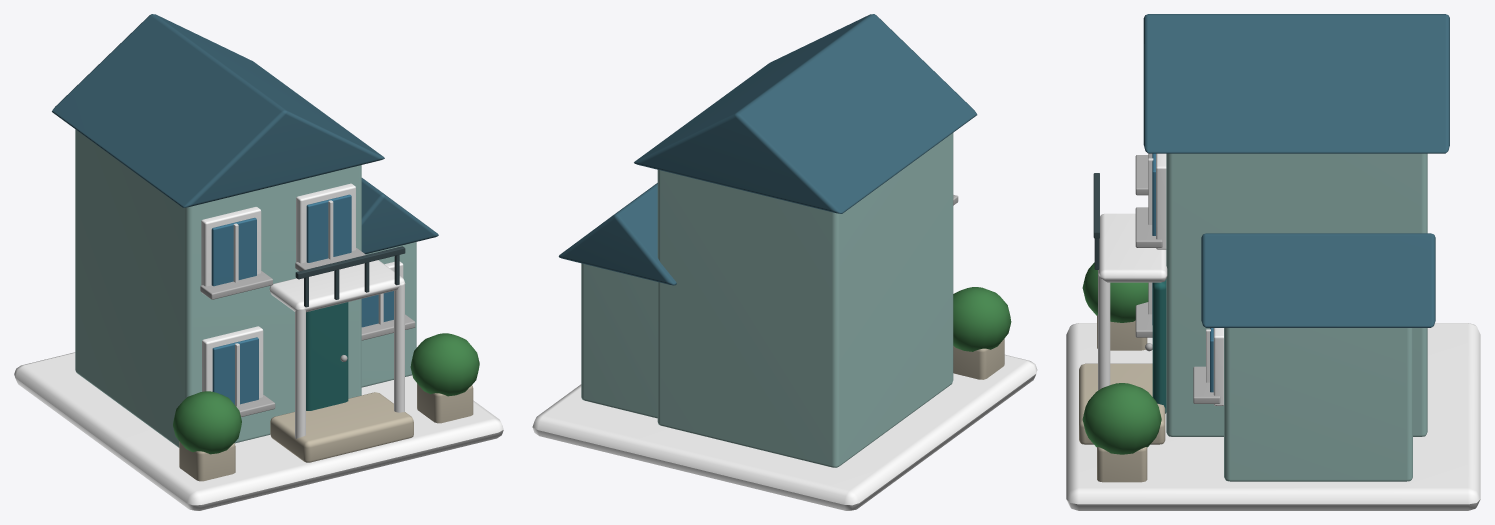
File: big-house.glb
3 renders of one model, left to right at view 1: azimuth 30°, elevation 25°; view 2: azimuth 150°, elevation 25°; view 3: azimuth 270°, elevation 25°, orthographic. The views are drawn at different scales.
Parts seen in each view (by area): view 1: Batch_Sage blue plaster_, Batch_Blue slate roof_, Batch_Porcelain_, Batch_Warm stone_, Batch_Blue windows_, Batch_Leaves_, Door, Batch_Stone_, Batch_Dark metal_, Batch_Chalk_; view 2: Batch_Sage blue plaster_, Batch_Blue slate roof_, Batch_Porcelain_, Batch_Leaves_, Batch_Warm stone_; view 3: Batch_Blue slate roof_, Batch_Sage blue plaster_, Batch_Porcelain_, Batch_Leaves_, Batch_Warm stone_, Batch_Stone_, Door, Batch_Chalk_, Batch_Dark metal_, Batch_Blue windows_.
Boxes of the visible parts, x1,y1,x2,y2 form: Batch_Sage blue plaster_: (75, 129, 416, 447); Batch_Blue slate roof_: (52, 14, 438, 254); Batch_Porcelain_: (14, 183, 503, 510); Batch_Warm stone_: (179, 383, 473, 481); Batch_Blue windows_: (211, 194, 393, 404); Batch_Leaves_: (173, 333, 479, 454); Door: (306, 302, 348, 410); Batch_Stone_: (200, 248, 415, 416); Batch_Dark metal_: (295, 246, 405, 307); Batch_Chalk_: (233, 200, 383, 406); Batch_Sage blue plaster_: (581, 133, 953, 467); Batch_Blue slate roof_: (558, 14, 977, 285); Batch_Porcelain_: (532, 354, 1037, 510); Batch_Leaves_: (953, 287, 1011, 351); Batch_Warm stone_: (953, 338, 1004, 379); Batch_Blue slate roof_: (1143, 14, 1449, 327); Batch_Sage blue plaster_: (1166, 153, 1427, 481); Batch_Porcelain_: (1066, 153, 1480, 510); Batch_Leaves_: (1082, 262, 1161, 454); Batch_Warm stone_: (1079, 315, 1165, 482); Batch_Stone_: (1135, 155, 1220, 403); Door: (1152, 279, 1166, 413); Batch_Chalk_: (1148, 153, 1210, 382); Batch_Dark metal_: (1093, 173, 1099, 269); Batch_Blue windows_: (1152, 153, 1213, 392).
Size of the model in its own units: 2.3 by 2.43 by 2.3.
